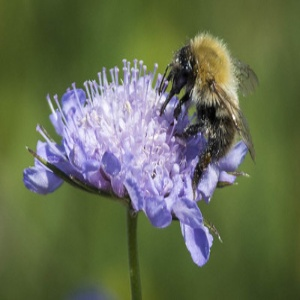bee: (160, 28, 262, 191)
